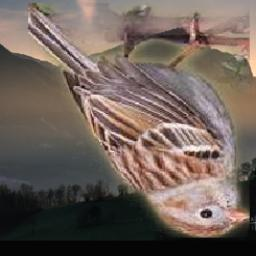Sparrow: (28, 4, 250, 239)
